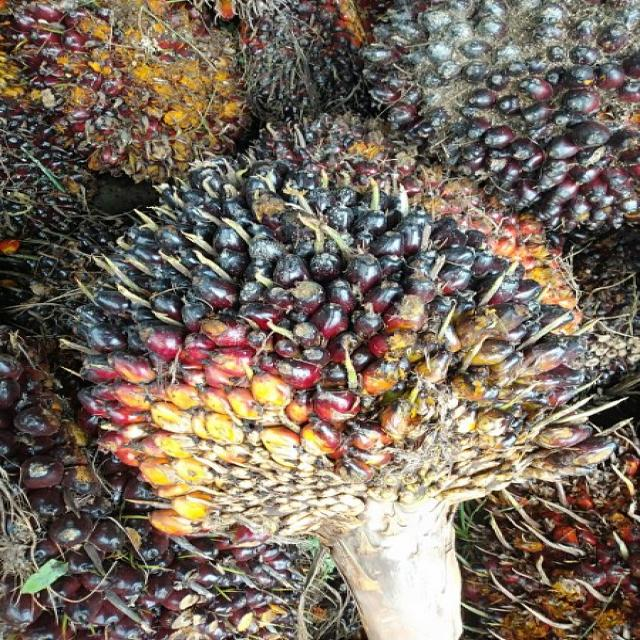fraksi 00: (71, 129, 596, 529)
